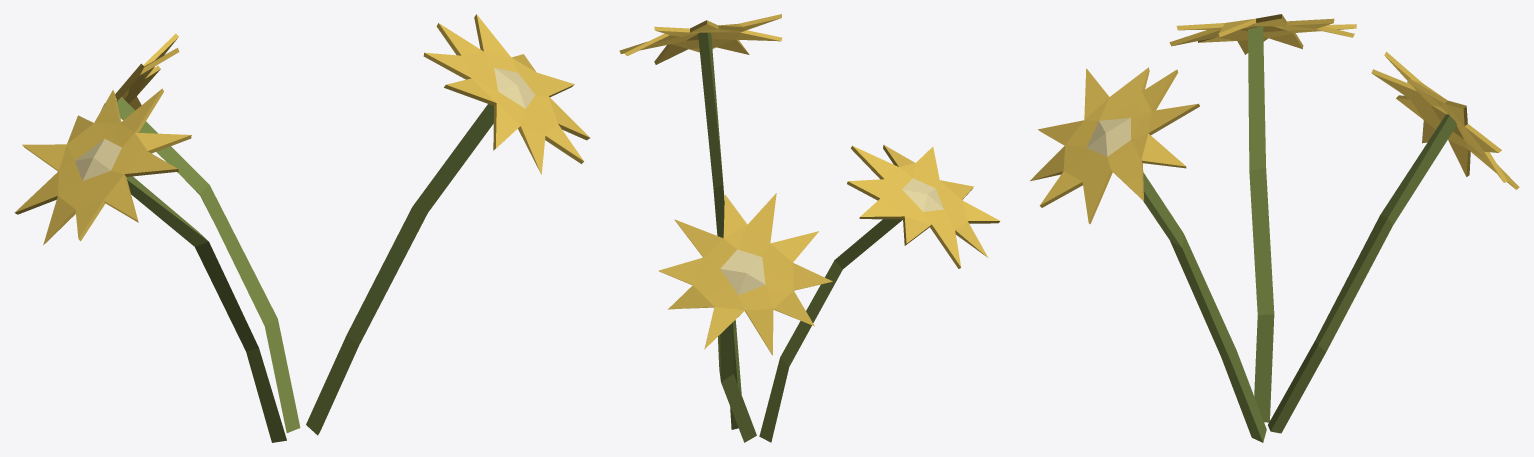
Rendered from flower_03.glb.
The picture shows the model from 3 angles, left to right: view 1: azimuth 30°, elevation 25°; view 2: azimuth 150°, elevation 25°; view 3: azimuth 270°, elevation 25°; orthographic projection. The views are drawn at different scales.
Parts seen in each view (by area): view 1: rpgpp_lt_flower_02; view 2: rpgpp_lt_flower_02; view 3: rpgpp_lt_flower_02.
Part boxes in pixels (x1,y1,x2,y2): rpgpp_lt_flower_02: (14,14,589,442); rpgpp_lt_flower_02: (619,14,999,442); rpgpp_lt_flower_02: (1030,14,1519,442).
Bounding box in the file's own units: 1.11 × 0.9421 × 1.02.
1 material, 1 textured.
